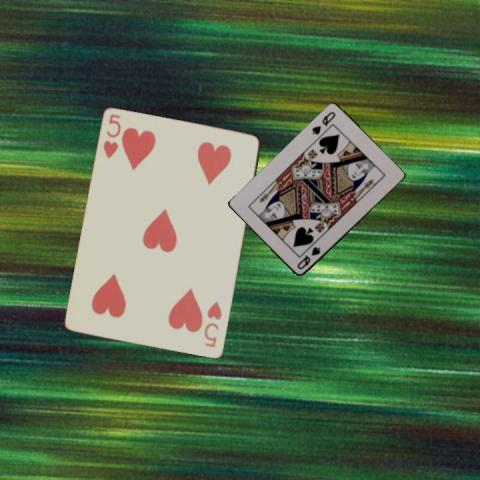5h: (201, 298, 224, 349), (100, 111, 122, 161)
Qs: (308, 108, 336, 136), (294, 244, 322, 271)
